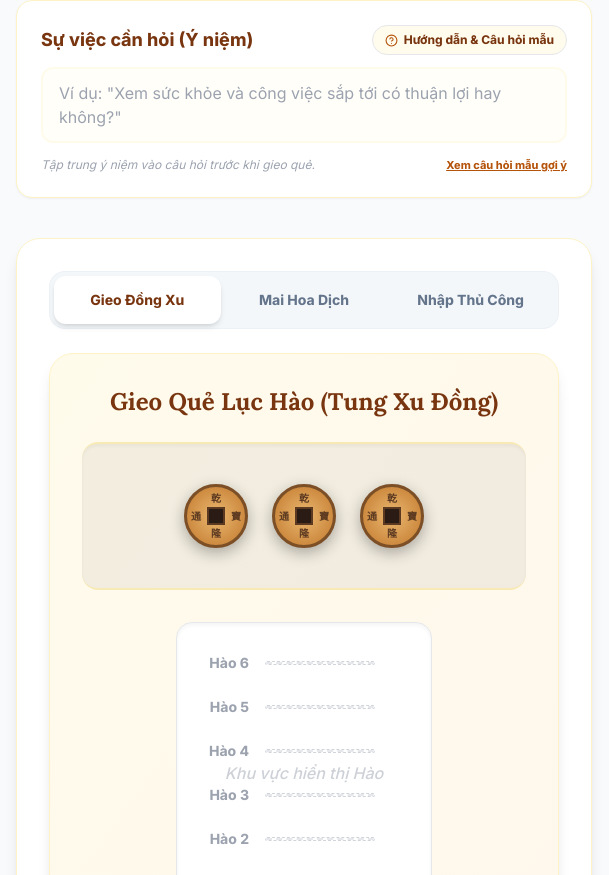
Test: IChingInput Component Flow Tests › switches between Gieo Đồng Xu, Mai Hoa Dịch, and Nhập Thủ Công tabs
Click the button "Mai Hoa Dịch".
click(304, 300)  # box [221,276,387,324]
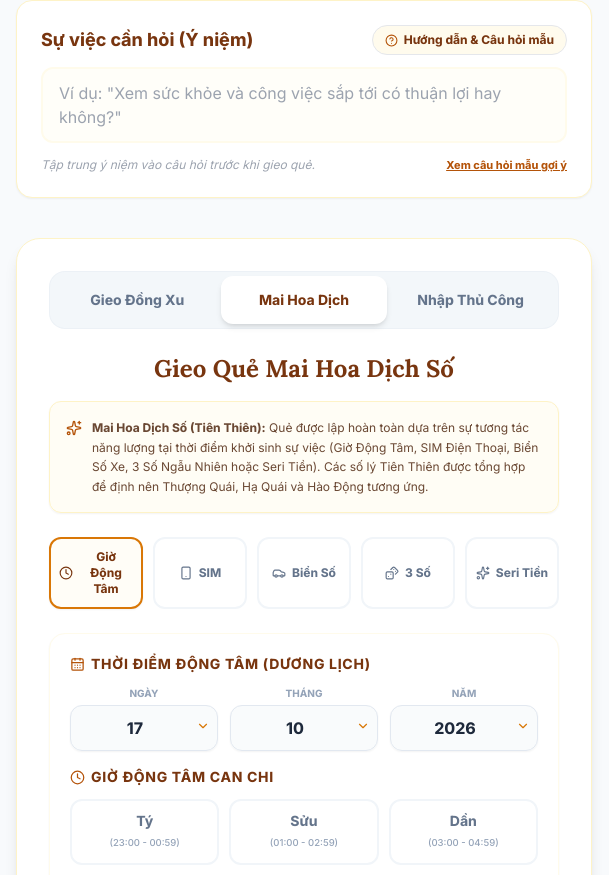
Now the heading "Gieo Quẻ Mai Hoa Dịch Số" is shown, box [154,353,454,385]
Click the button "Nhập Thủ Công".
click(471, 300)  # box [387,276,554,324]
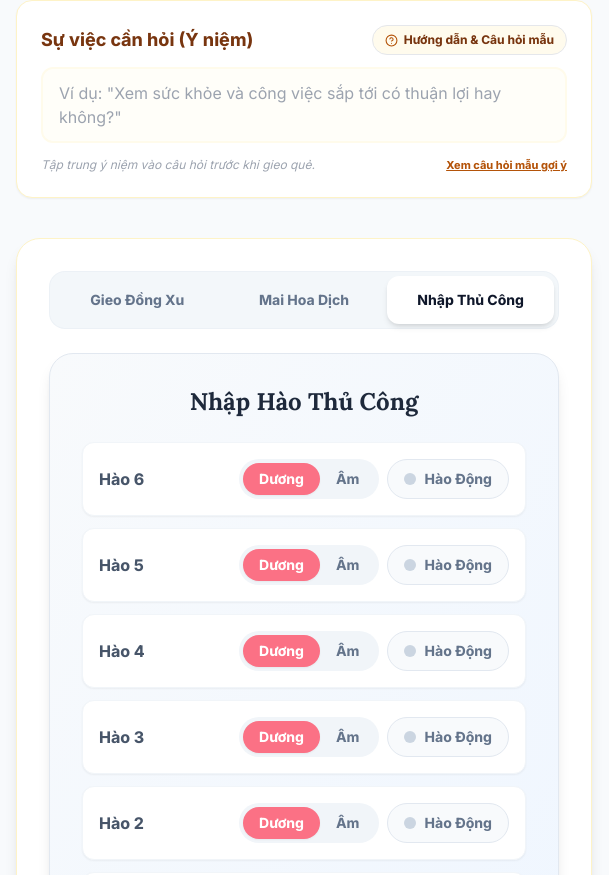
Now the heading "Nhập Hào Thủ Công" is shown, box [190,386,418,418]
